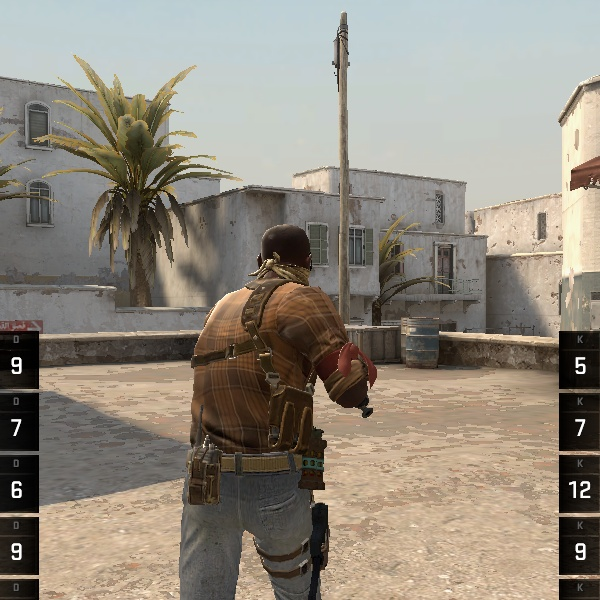t_body: (165, 206, 383, 588)
t_head: (241, 219, 324, 303)
